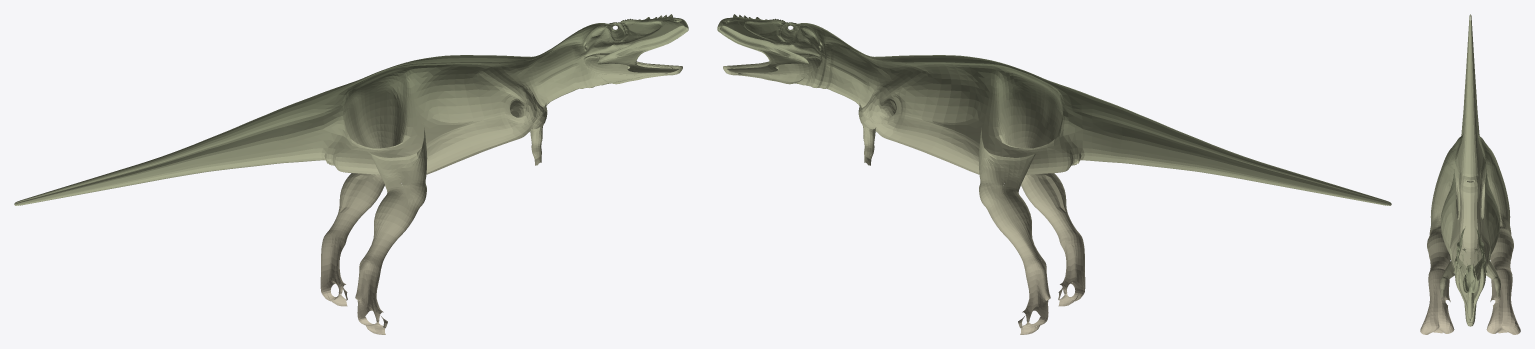
File: alioramus.glb
3 views of the same model, side by side, from view 1: azimuth 30°, elevation 25°; view 2: azimuth 150°, elevation 25°; view 3: azimuth 270°, elevation 25° (orthographic). The views are drawn at different scales.
Visible parts, largest first — view 1: world; view 2: world; view 3: world.
Boxes of the visible parts, x1=… form: world: x1=14, y1=14, x2=688, y2=334; world: x1=717, y1=14, x2=1391, y2=334; world: x1=1420, y1=14, x2=1520, y2=334.
Size of the model in its own units: 10 by 3.43 by 1.47.
